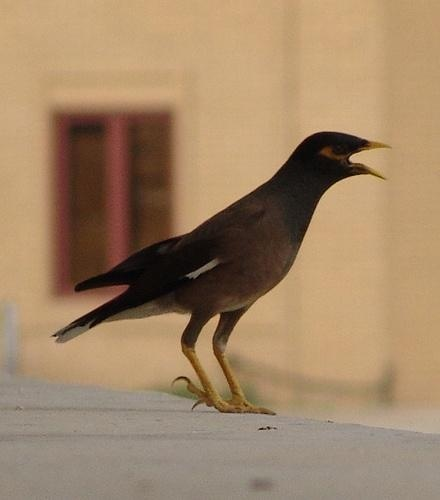bird: (53, 132, 392, 419)
